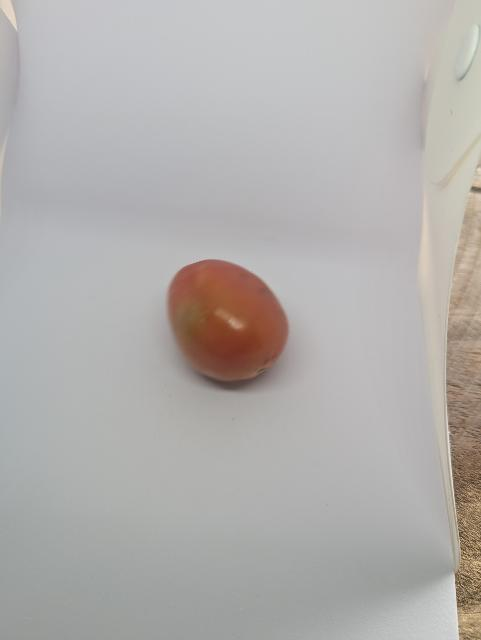turning: (159, 253, 298, 394)
